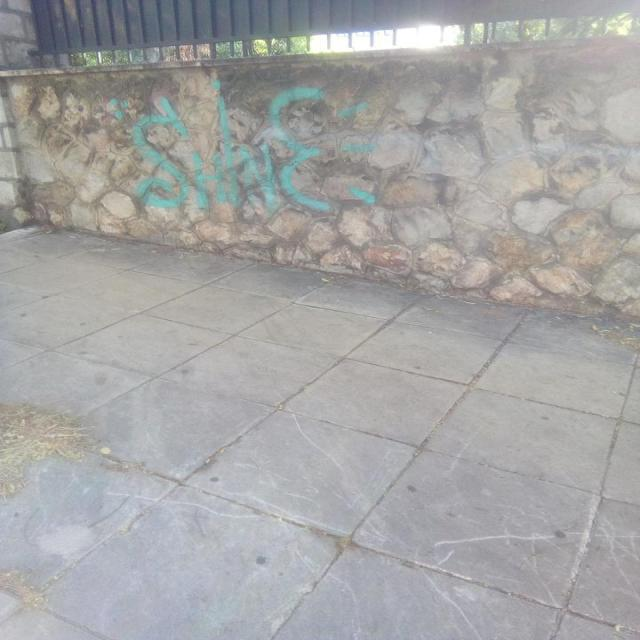nonspitting: (109, 80, 378, 210)
